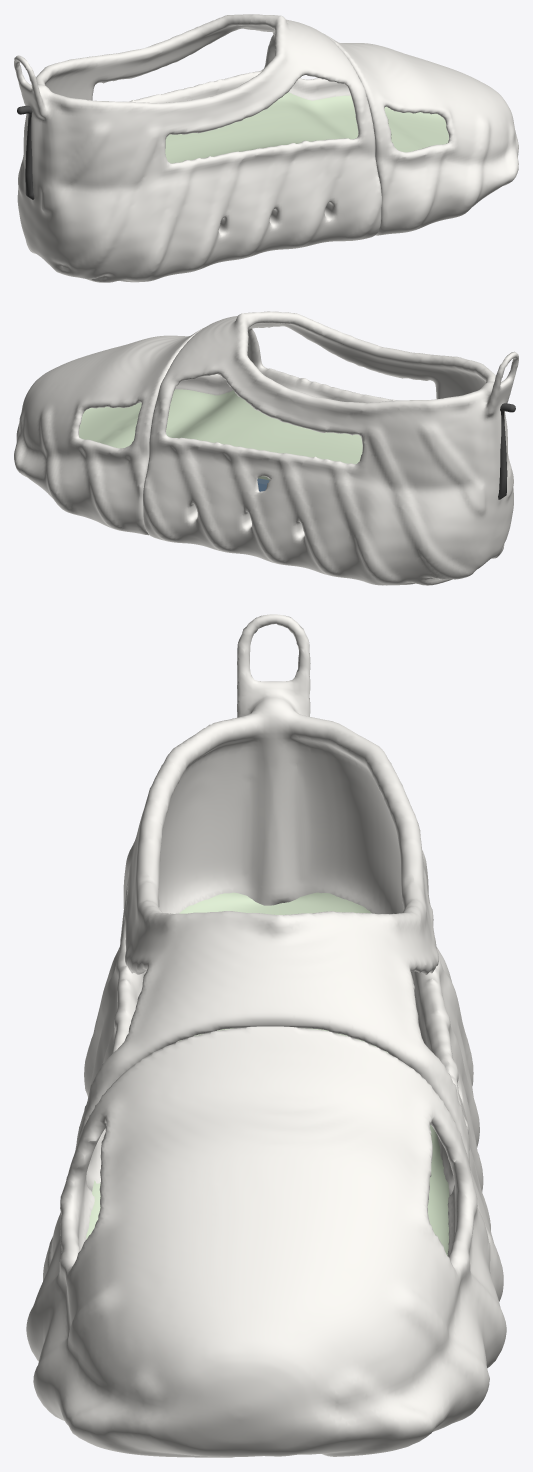
File: shoe.glb
3 renders of one model, top to bottom at view 1: azimuth 30°, elevation 25°; view 2: azimuth 150°, elevation 25°; view 3: azimuth 270°, elevation 25°, orthographic. The views are drawn at different scales.
Visible parts, largest first — view 1: sole_heel, sole_toe, insole, usb_cable; view 2: sole_heel, sole_toe, insole, usb_cable; view 3: sole_toe, sole_heel, insole.
Part boxes in pixels (box(x1,y1,x2,y2)): sole_heel: box(14, 14, 381, 282); sole_toe: box(289, 33, 518, 235); insole: box(165, 92, 448, 163); usb_cable: box(17, 105, 34, 199); sole_heel: box(143, 311, 518, 585); sole_toe: box(14, 327, 232, 535); insole: box(79, 389, 362, 480); usb_cable: box(498, 403, 515, 499); sole_toe: box(26, 1026, 506, 1457); sole_heel: box(43, 614, 503, 1301); insole: box(86, 892, 449, 1255).
Bounding box in the file's own units: 0.263 × 0.1175 × 0.1144.
